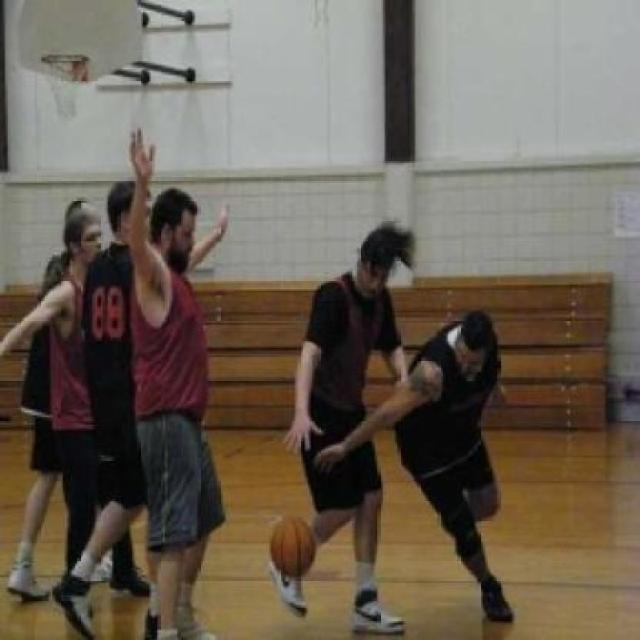basketball: (266, 514, 320, 581)
hoop: (39, 50, 92, 119)
